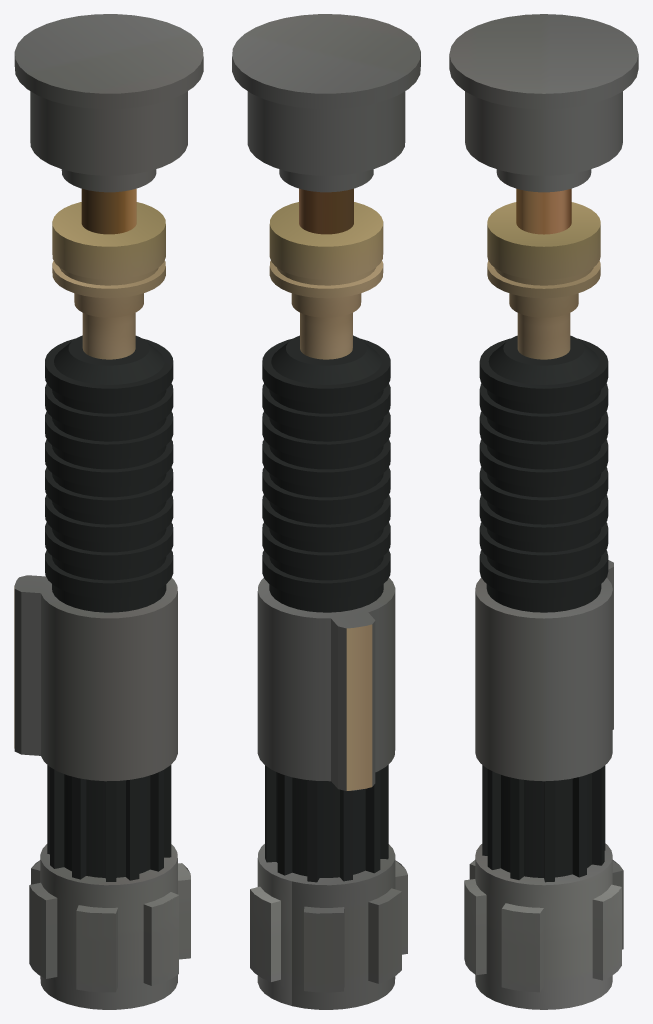
Rendered from hilt.fbx.
3 renders of one model, left to right at view 1: azimuth 30°, elevation 25°; view 2: azimuth 150°, elevation 25°; view 3: azimuth 270°, elevation 25°, orthographic.
Visible parts, largest first — view 1: Cylinder; view 2: Cylinder; view 3: Cylinder.
Boxes of the visible parts, x1,y1,x2,y2 form: Cylinder: (14, 14, 203, 1009); Cylinder: (232, 14, 420, 1009); Cylinder: (449, 14, 638, 1009).
Size of the model in its own units: 131 by 710 by 131.
1 material, 1 textured.
